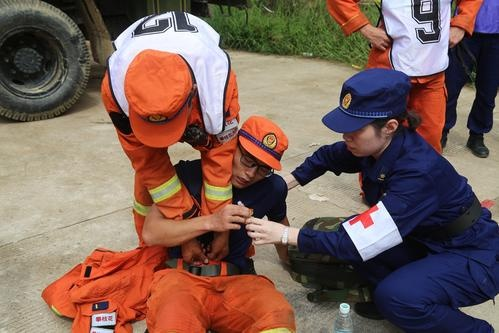falling: (86, 94, 308, 333)
